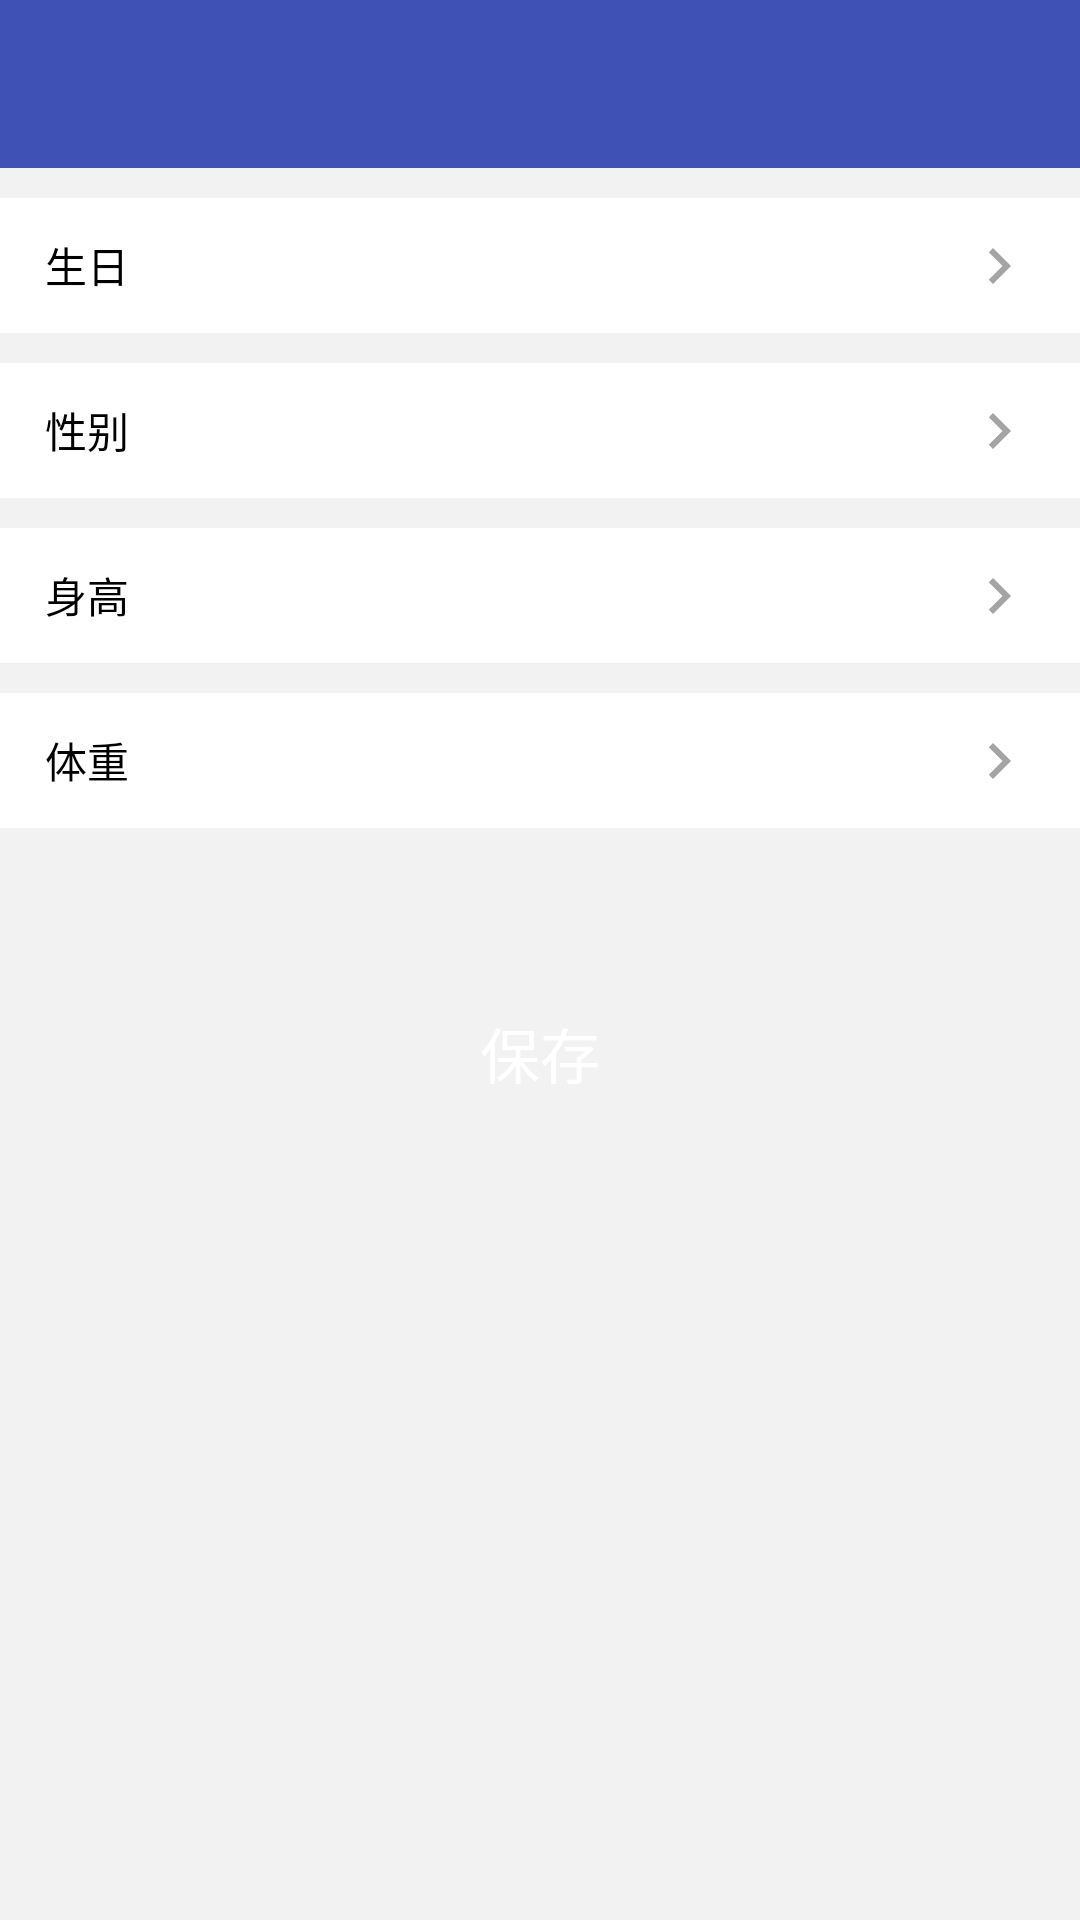

Named icons in this screenshot (1080*1920) and their bounding boxes, (x1, y1, x2, y2):
right: (989, 248, 1011, 284), (989, 413, 1011, 449), (989, 578, 1011, 614), (989, 743, 1011, 779)
